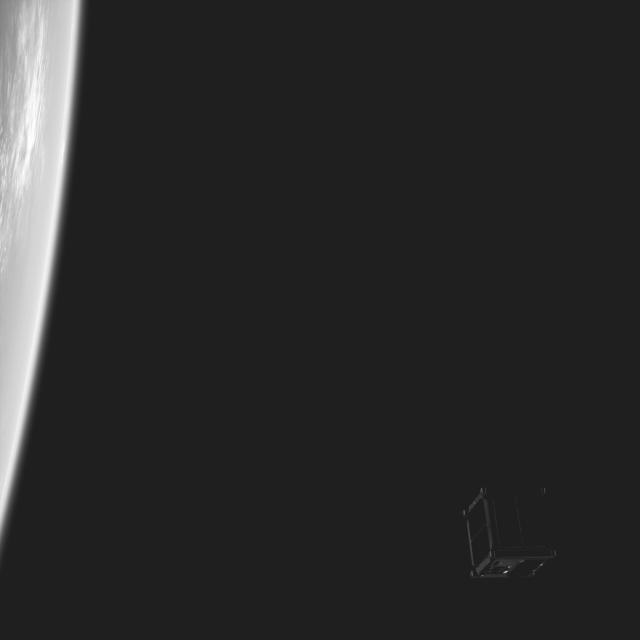satellite: (453, 478, 556, 584)
